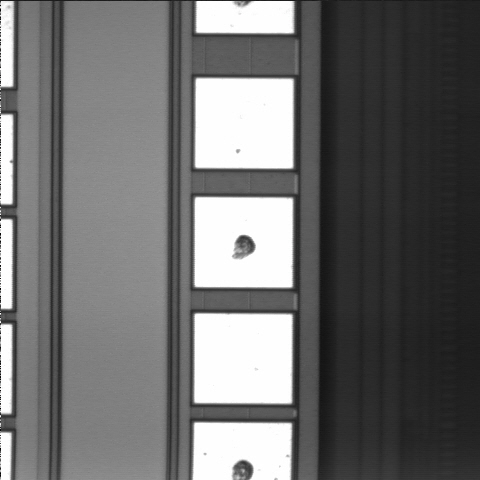pad: (195, 78, 293, 168), (195, 197, 293, 287), (194, 314, 292, 403)
